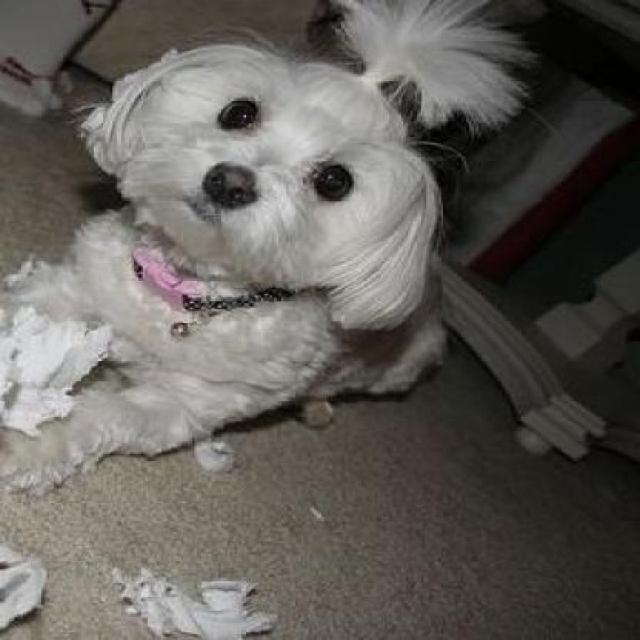Dog: (0, 0, 540, 505)
